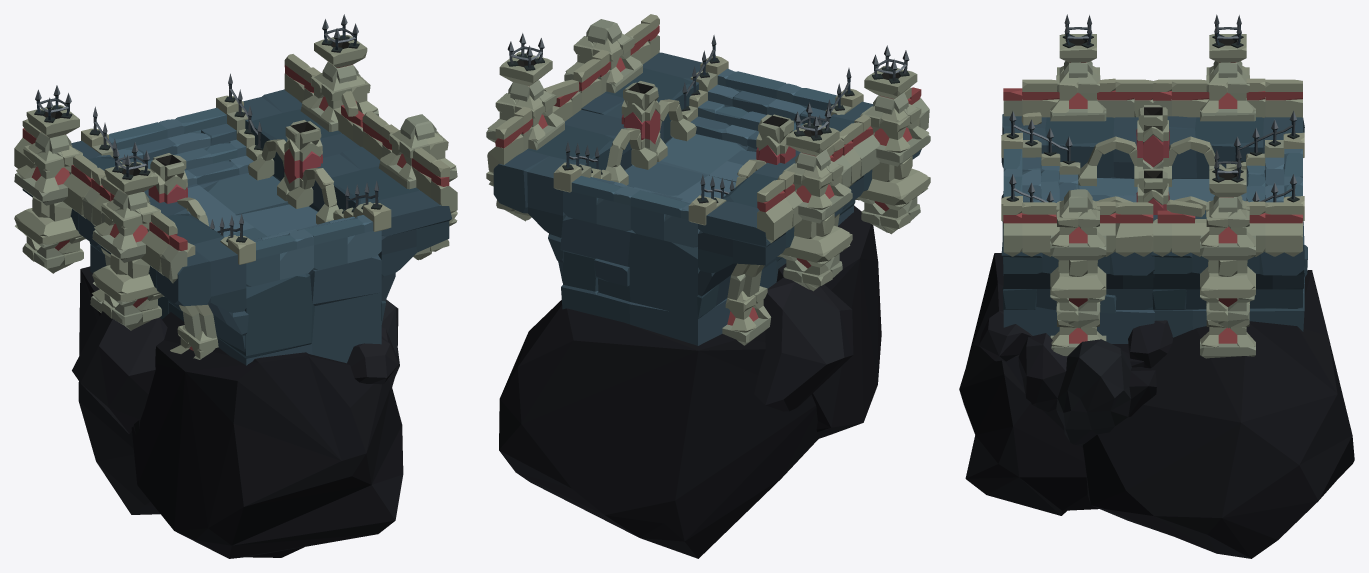
The model's file is hallway_I_03_dip.fbx.
3 renders of one model, left to right at view 1: azimuth 30°, elevation 25°; view 2: azimuth 150°, elevation 25°; view 3: azimuth 270°, elevation 25°, orthographic. The views are drawn at different scales.
Parts seen in each view (by area): view 1: hallway_I_03_dip; view 2: hallway_I_03_dip; view 3: hallway_I_03_dip.
Part boxes in pixels (x1,y1,x2,y2): hallway_I_03_dip: [14, 14, 457, 558]; hallway_I_03_dip: [486, 14, 930, 558]; hallway_I_03_dip: [959, 14, 1354, 558].
Bounding box in the file's own units: 1000 × 1305 × 1057.
